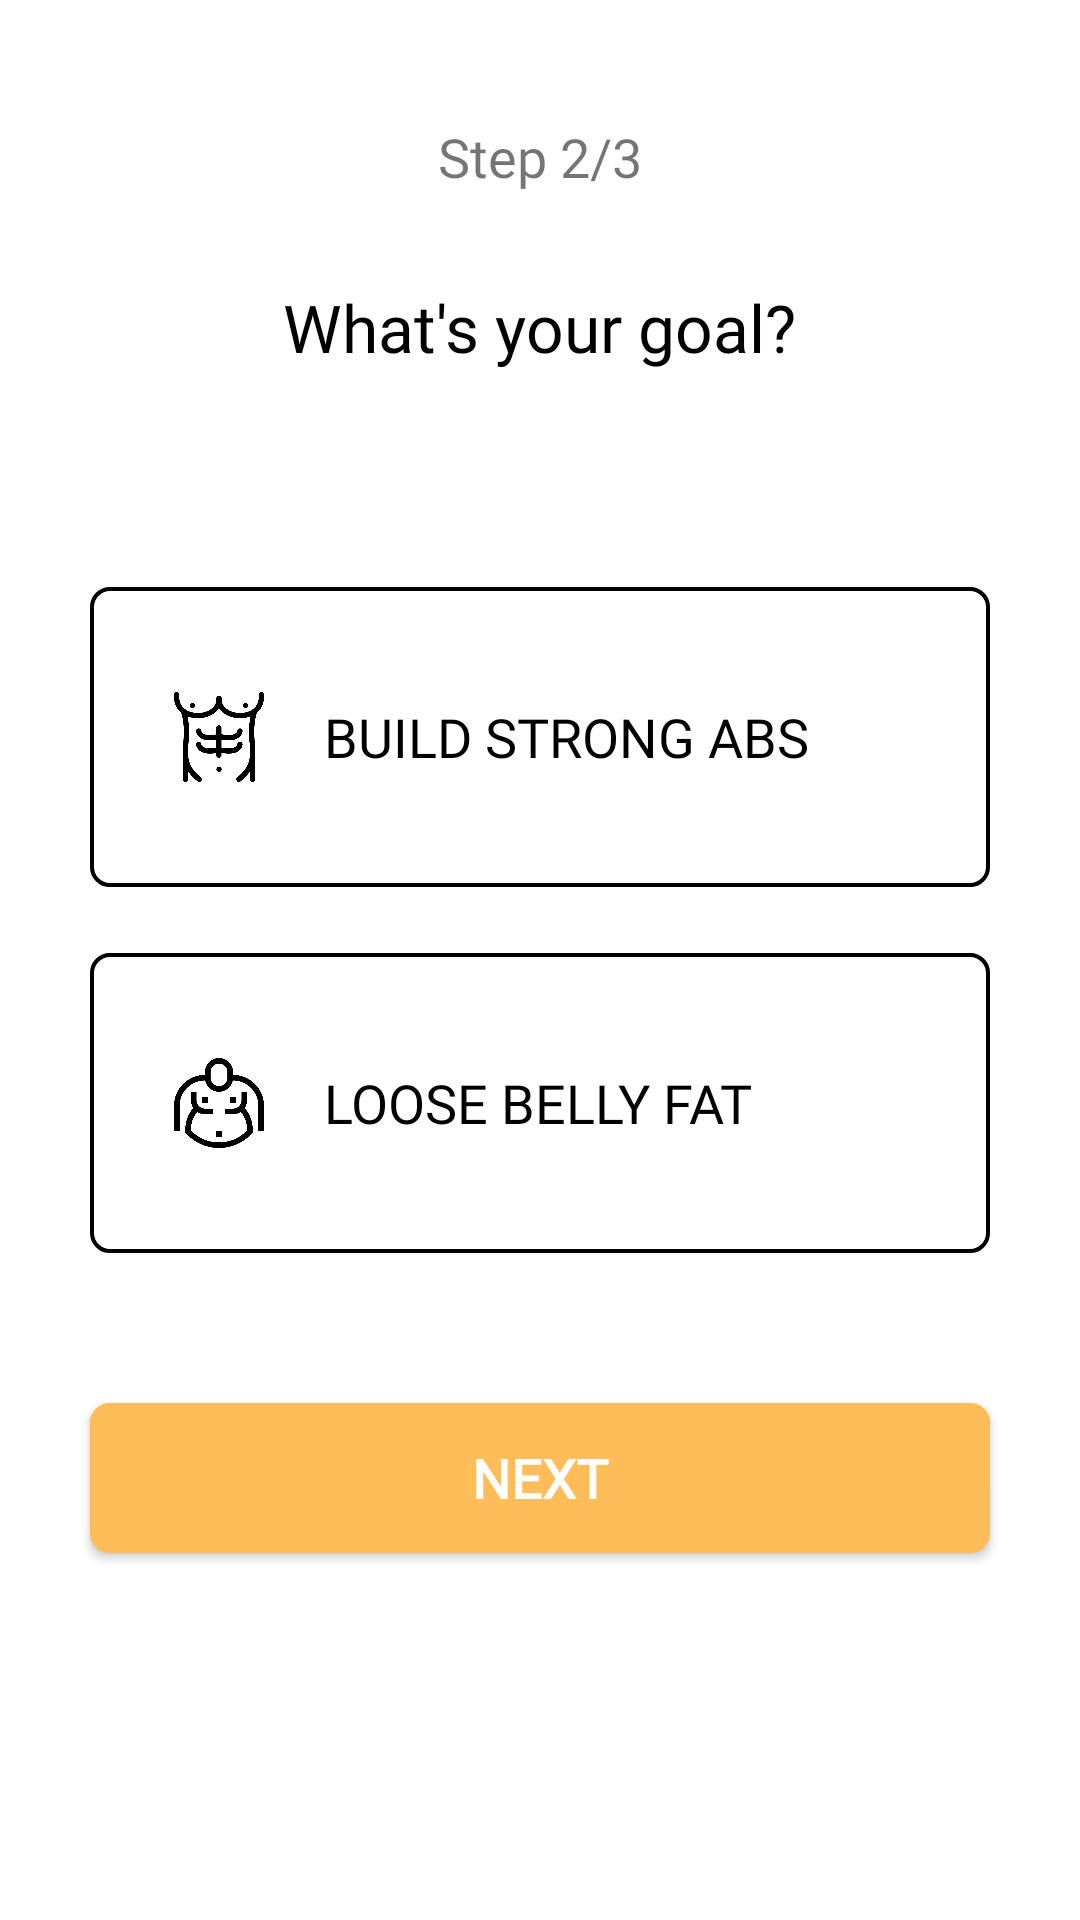

Where to tap for icons on this 1080 × 1920 app screen, as (x,y):
muscle: (219,737)
